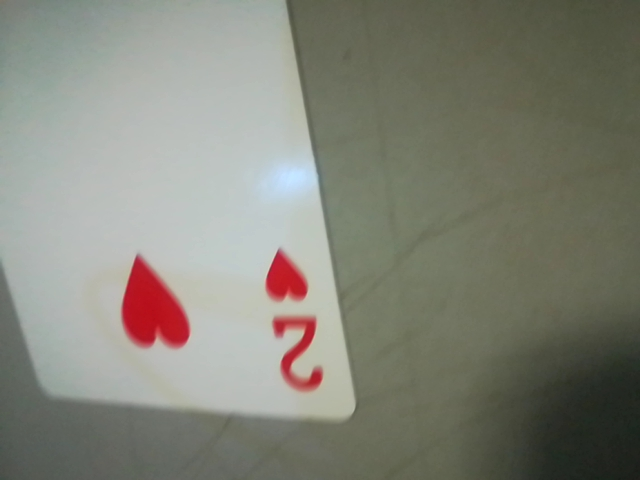hx 2: (250, 228, 336, 417)
